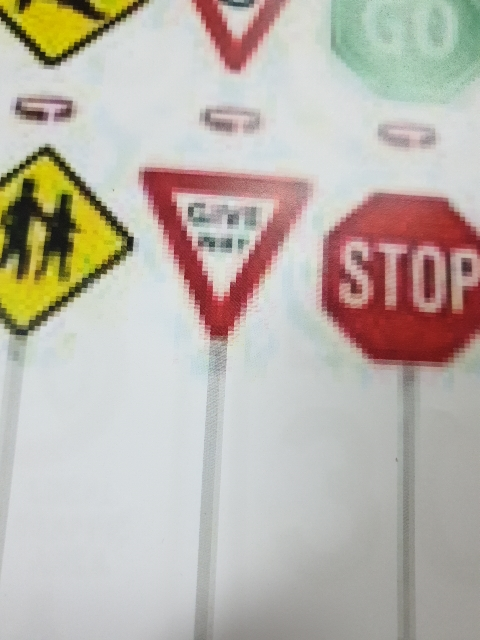giveway: (140, 169, 311, 332)
stop: (328, 183, 480, 365)
